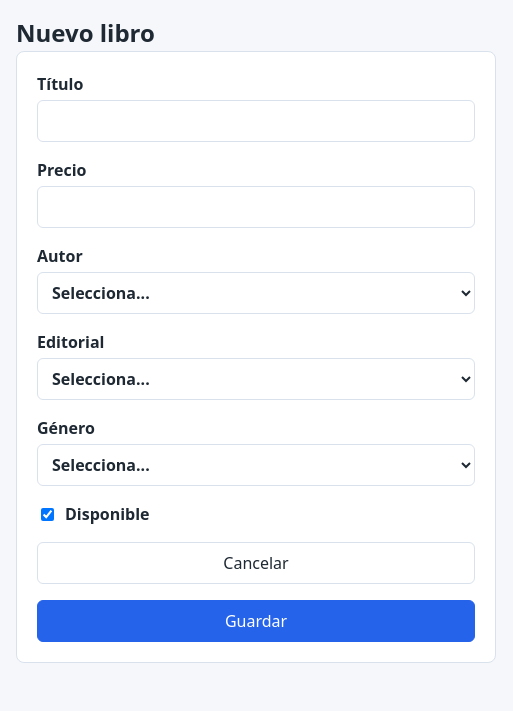
LibroForm › muestra los errores si se envía vacío
expect the heading "Nuevo libro" is shown: met, box [16,16,155,49]
Click the button "Guardar" at (256, 621), box [37,600,475,642]
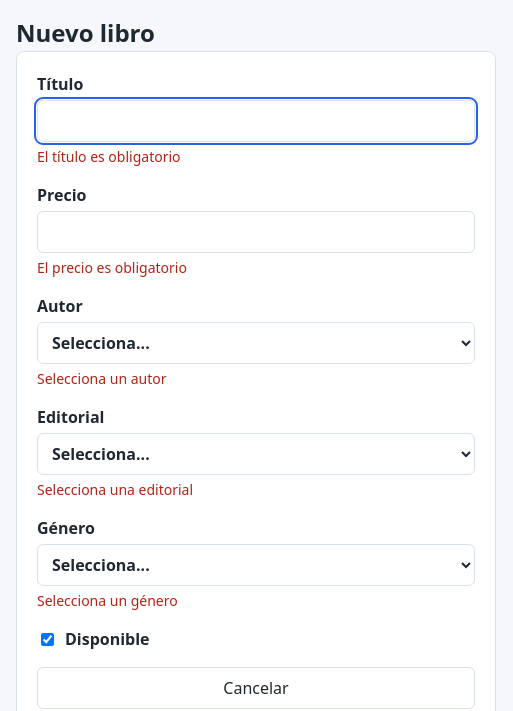
expect the text "El título es obligatorio" is shown: met, box [37,147,180,166]
expect the text "El precio es obligatorio" is shown: met, box [37,258,187,277]
expect the text "Selecciona un autor" is shown: met, box [37,369,166,388]
